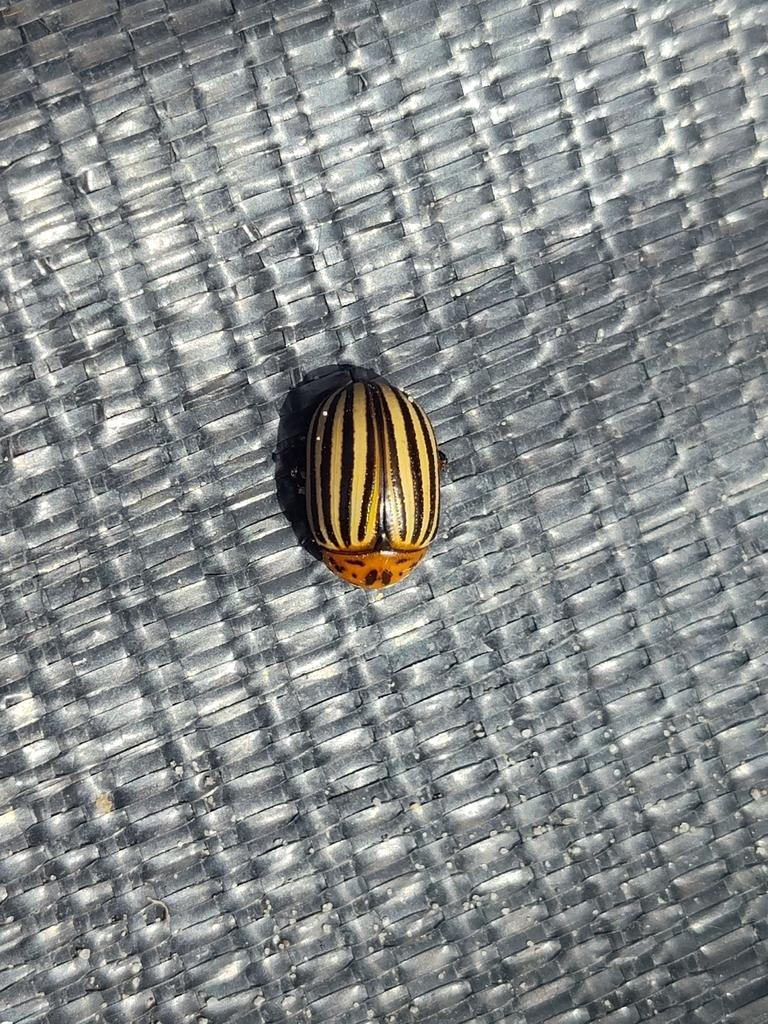potato_beetle: (254, 333, 512, 629)
